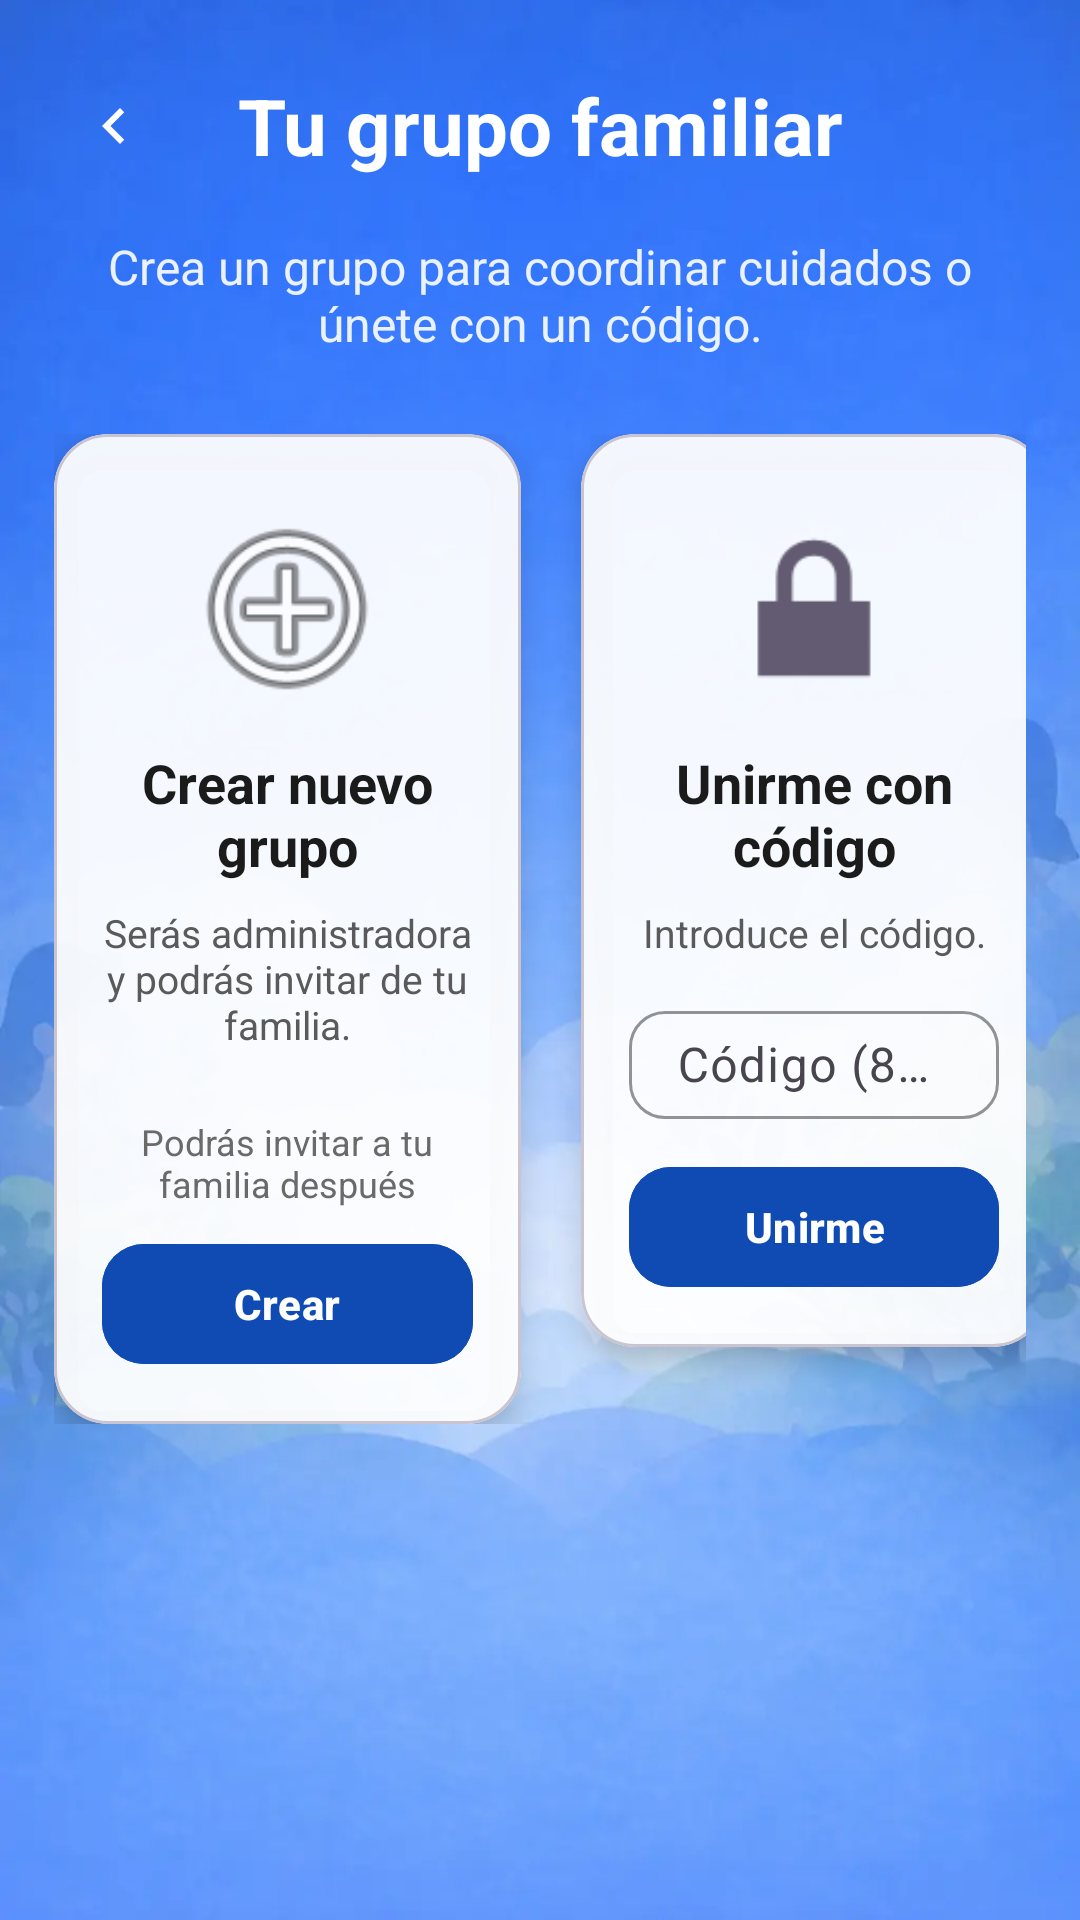

Where icons sit on this 1080 × 1920 app screen, as (x1, y1, x2, y2):
Volver: (102, 108, 124, 144)
